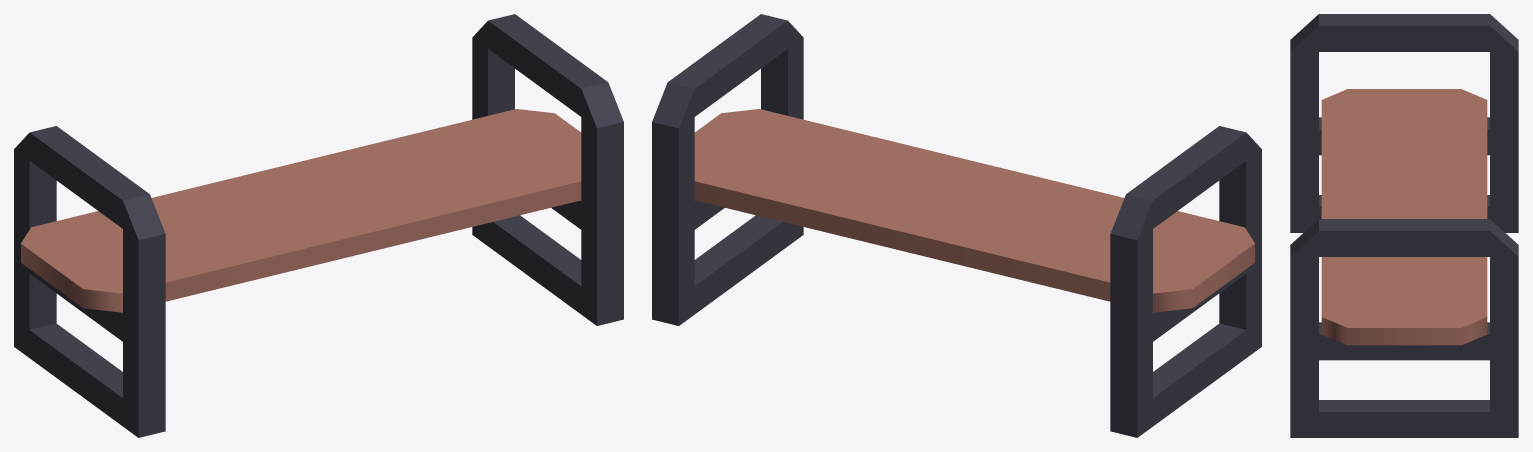
The model's file is mallbench.fbx.
The picture shows the model from 3 angles, left to right: view 1: azimuth 30°, elevation 25°; view 2: azimuth 150°, elevation 25°; view 3: azimuth 270°, elevation 25°; orthographic projection. The views are drawn at different scales.
Visible parts, largest first — view 1: pCube1; view 2: pCube1; view 3: pCube1.
Part boxes in pixels (<box>): pCube1: <box>14,14,623,437</box>; pCube1: <box>652,14,1261,437</box>; pCube1: <box>1290,14,1518,437</box>.
Size of the model in its own units: 19.8 by 8 by 8.
